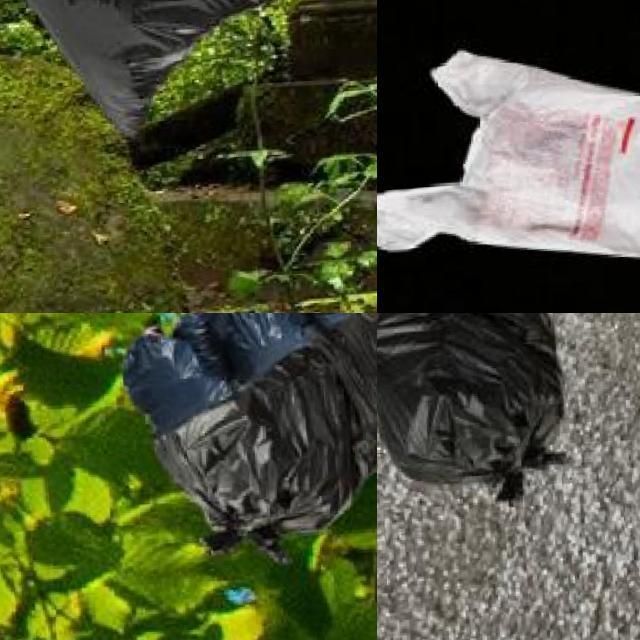waste: (146, 313, 377, 551), (431, 47, 640, 273), (0, 0, 320, 131), (377, 313, 579, 500), (121, 328, 228, 410), (182, 313, 319, 364)
